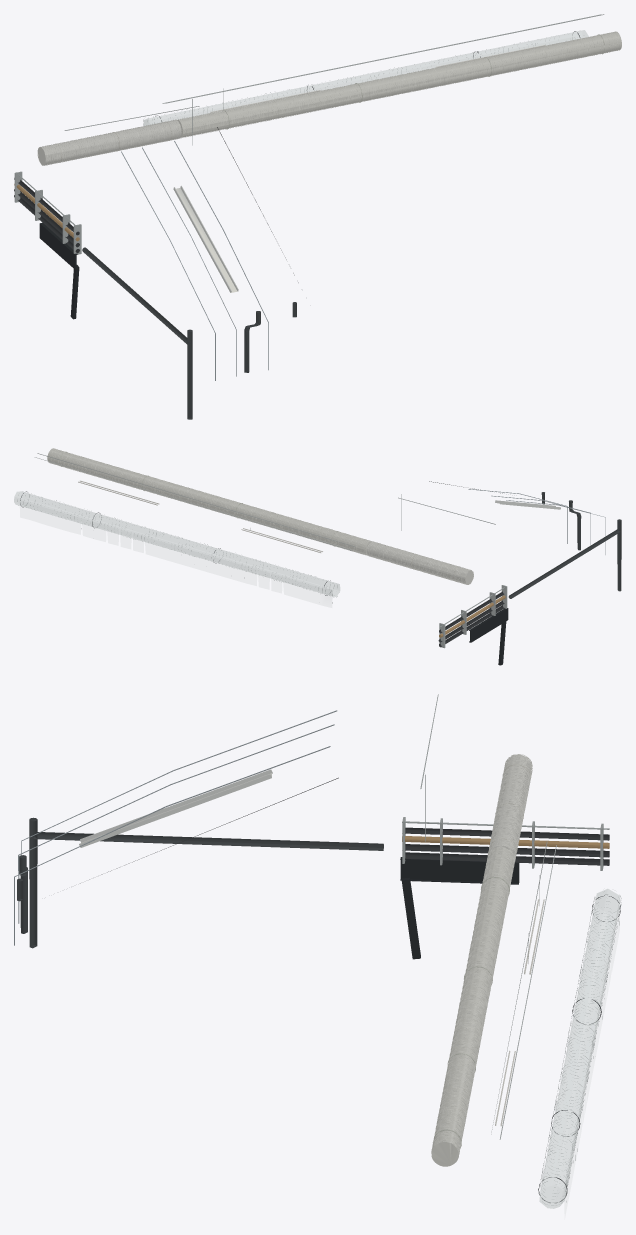
Rendered from 05s.4951181bbb.glb.
The picture shows the model from 3 angles, top to bottom: view 1: azimuth 30°, elevation 25°; view 2: azimuth 150°, elevation 25°; view 3: azimuth 270°, elevation 25°; orthographic projection. The views are drawn at different scales.
Bounding box in the file's own units: 13.3 × 4.1 × 8.37.
